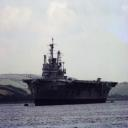Portanaves: (23, 38, 120, 109)
